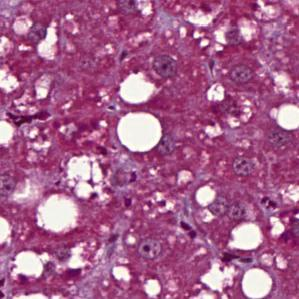ballooning: (65, 152, 112, 206)
